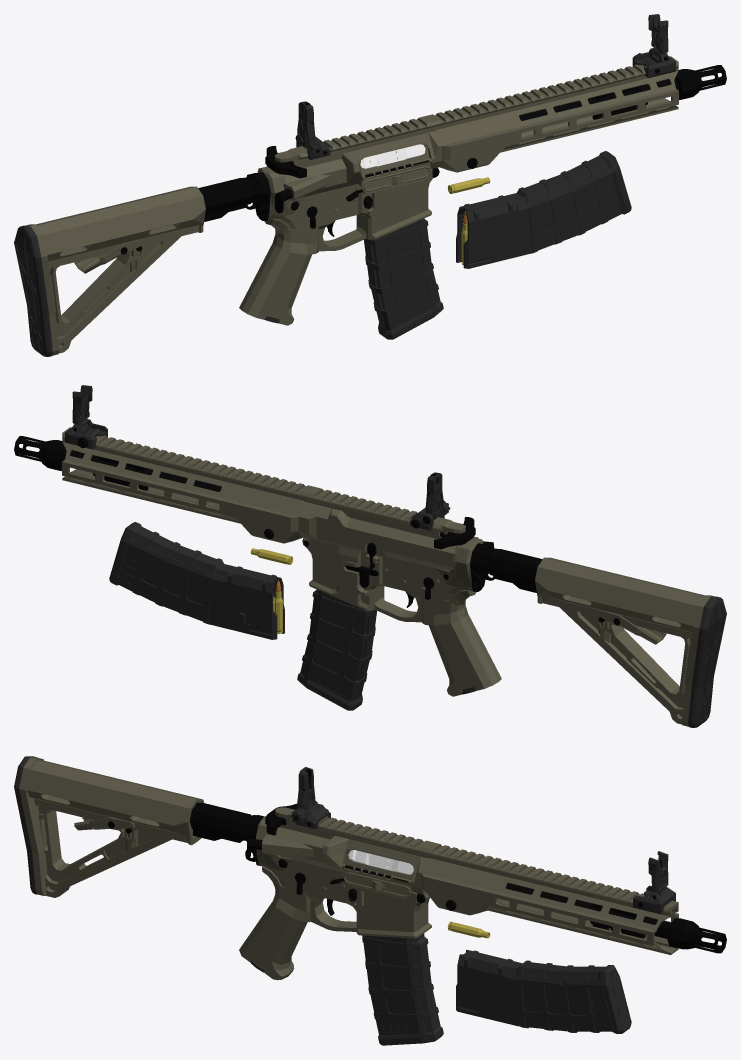
File: gun1.glb
The picture shows the model from 3 angles, top to bottom: view 1: azimuth 30°, elevation 25°; view 2: azimuth 150°, elevation 25°; view 3: azimuth 330°, elevation 25°; orthographic projection.
Visible parts, largest first — view 1: m23 stock_1, m23 forend_14, 55645 m16 mag 30rnd (magpul)_3, m23 lower receiver_6, 55645 m16 mag empty 30rnd (magpul)_2, m23 upper receiver_8, m23 pistol grip_18, magpul mbus pro front iron sight_16, m23 dust covet_11, m23 flash hider_15, magpul mbus pro rear iron sight_17, m23 barrel_7 (+2 smaller); view 2: m23 stock_1, m23 forend_14, 55645 m16 mag 30rnd (magpul)_3, m23 lower receiver_6, m23 upper receiver_8, 55645 m16 mag empty 30rnd (magpul)_2, m23 pistol grip_18, magpul mbus pro front iron sight_16, magpul mbus pro rear iron sight_17, m23 flash hider_15, m23 barrel_7, m23 charging handle_0; view 3: m23 stock_1, m23 forend_14, 55645 m16 mag 30rnd (magpul)_3, m23 lower receiver_6, 55645 m16 mag empty 30rnd (magpul)_2, m23 upper receiver_8, m23 pistol grip_18, m23 dust covet_11, magpul mbus pro front iron sight_16, m23 flash hider_15, magpul mbus pro rear iron sight_17, m23 barrel_7 (+1 smaller).
Part boxes in pixels (x1,y1,x2,y2): m23 stock_1: (14,186,205,356); m23 forend_14: (429,56,678,172); 55645 m16 mag 30rnd (magpul)_3: (456,151,631,268); m23 lower receiver_6: (155,166,439,251); 55645 m16 mag empty 30rnd (magpul)_2: (364,218,443,339); m23 upper receiver_8: (274,115,442,213); m23 pistol grip_18: (239,219,318,325); magpul mbus pro front iron sight_16: (632,14,675,77); m23 dust covet_11: (361,158,431,193); m23 flash hider_15: (675,65,726,99); magpul mbus pro rear iron sight_17: (295,101,330,159); m23 barrel_7: (519,79,678,120); m23 stock_1: (535,557,726,727); m23 forend_14: (62,427,311,543); 55645 m16 mag 30rnd (magpul)_3: (109,522,284,639); m23 lower receiver_6: (302,537,585,622); m23 upper receiver_8: (298,486,493,570); 55645 m16 mag empty 30rnd (magpul)_2: (297,589,376,710); m23 pistol grip_18: (422,590,501,696); magpul mbus pro front iron sight_16: (65,385,107,449); magpul mbus pro rear iron sight_17: (410,472,450,530); m23 flash hider_15: (14,436,65,470); m23 barrel_7: (62,450,221,491); m23 charging handle_0: (434,517,475,549); m23 stock_1: (14,756,204,897); m23 forend_14: (421,843,678,954); 55645 m16 mag 30rnd (magpul)_3: (456,950,631,1033); m23 lower receiver_6: (146,802,431,938); 55645 m16 mag empty 30rnd (magpul)_2: (362,933,443,1045); m23 upper receiver_8: (247,807,435,898); m23 pistol grip_18: (239,866,310,980); m23 dust covet_11: (342,864,412,899); magpul mbus pro front iron sight_16: (633,851,675,914); m23 flash hider_15: (667,918,726,953); magpul mbus pro rear iron sight_17: (290,767,330,829); m23 barrel_7: (506,883,671,938).
Size of the model in its own units: 8.14 by 2.82 by 0.6889.
